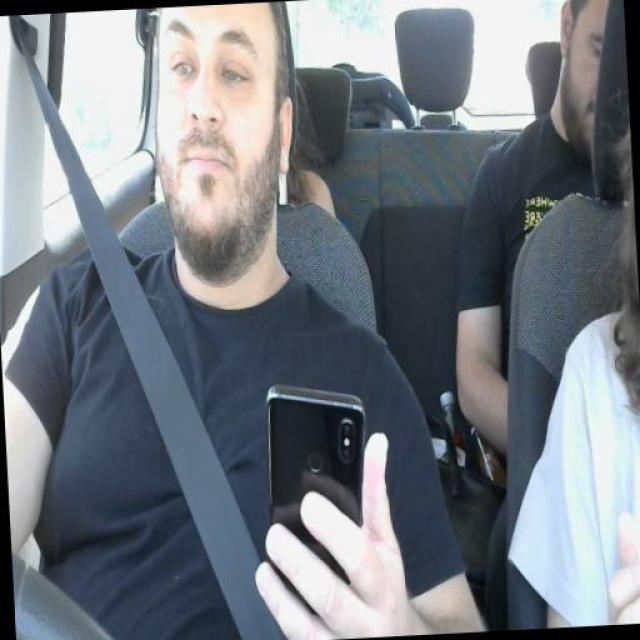phone: (268, 388, 370, 616)
